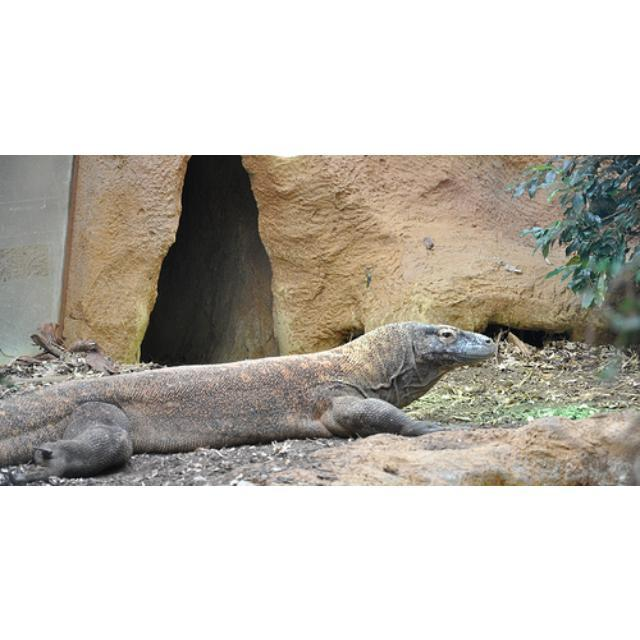KomodoDragon: (0, 317, 494, 478)
